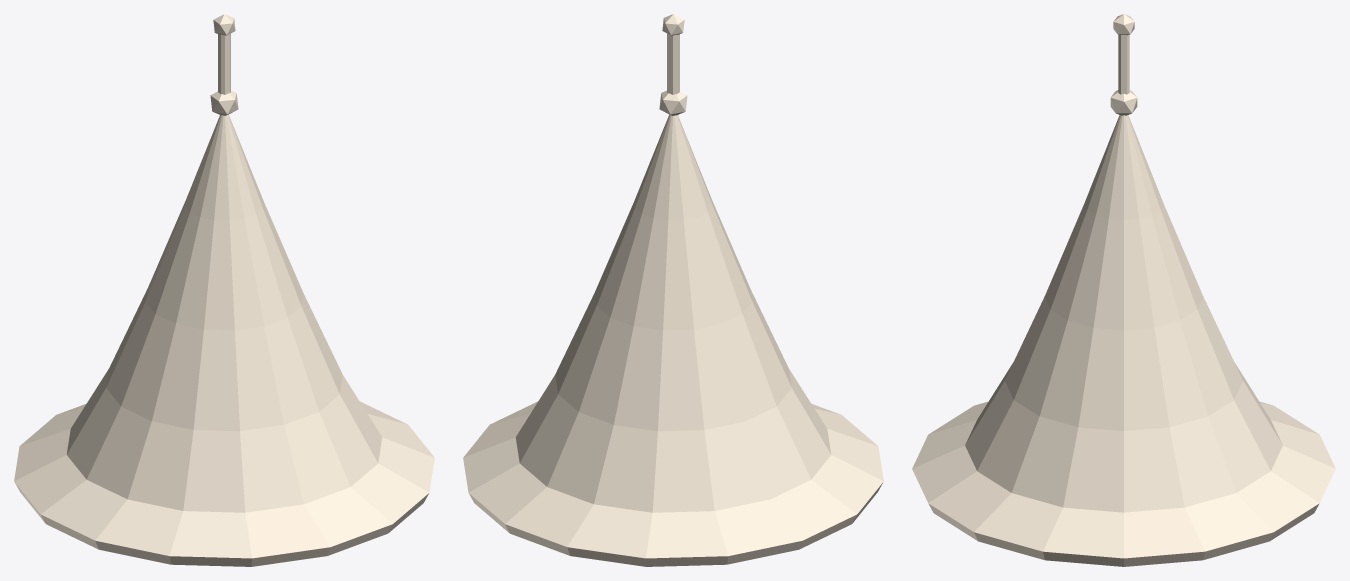
The model's file is SM_VK_Roof_Cone_R2.fbx.
3 views of the same model, side by side, from view 1: azimuth 30°, elevation 25°; view 2: azimuth 150°, elevation 25°; view 3: azimuth 270°, elevation 25° (orthographic).
Parts seen in each view (by area): view 1: SM_VK_Roof_Cone_R2.001; view 2: SM_VK_Roof_Cone_R2.001; view 3: SM_VK_Roof_Cone_R2.001.
Boxes of the visible parts, x1,y1,x2,y2 form: SM_VK_Roof_Cone_R2.001: (14,14,434,566); SM_VK_Roof_Cone_R2.001: (463,14,883,566); SM_VK_Roof_Cone_R2.001: (912,14,1335,566).
Size of the model in its own units: 4.4 by 5.37 by 4.4.
